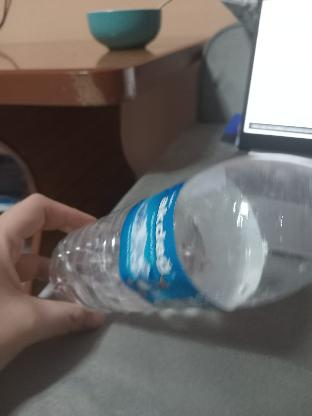Plastic Bottle: (46, 152, 312, 322)
